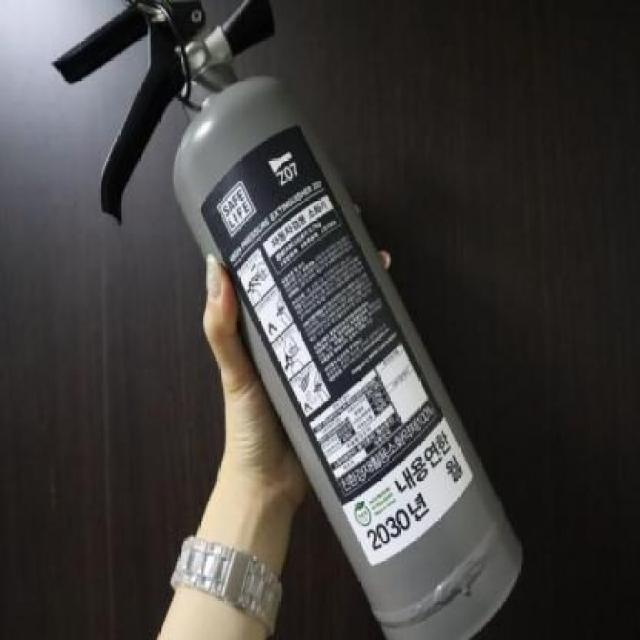fire extinguisher: (53, 0, 524, 640)
